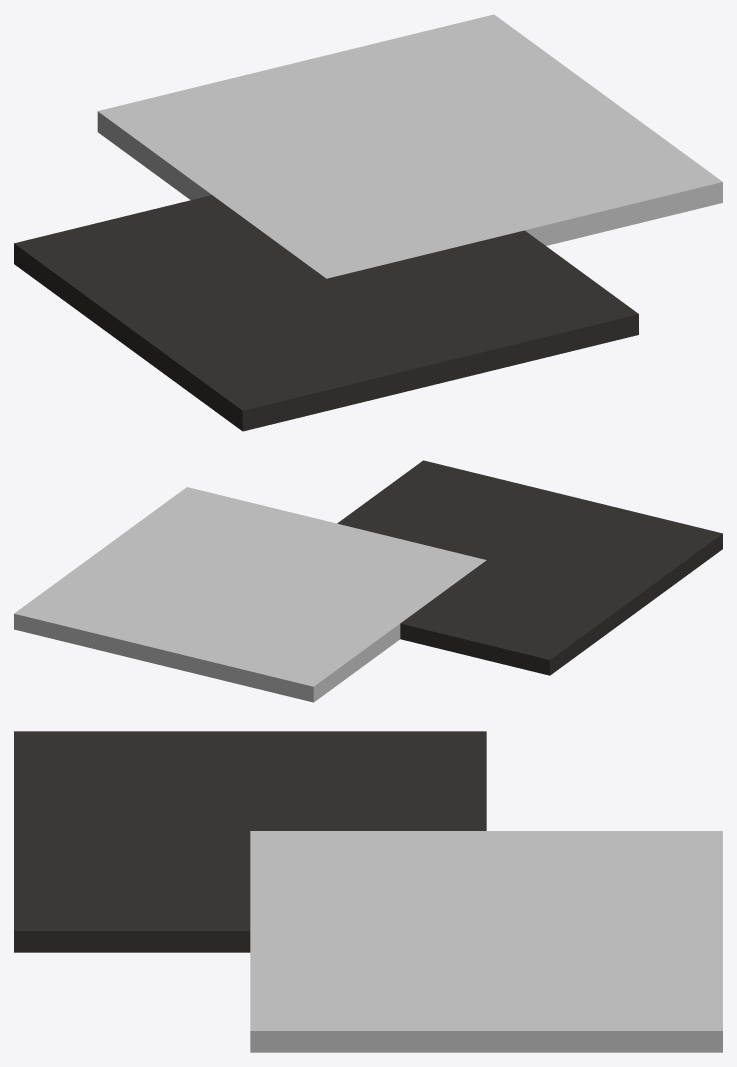
Rendered from SM_Factory_Ground_01.fbx.
3 views of the same model, one above another, from view 1: azimuth 30°, elevation 25°; view 2: azimuth 150°, elevation 25°; view 3: azimuth 270°, elevation 25° (orthographic). The views are drawn at different scales.
Visible parts, largest first — view 1: SM_Factory_Ground_01_ConvexHulls, SM_Factory_Ground_01; view 2: SM_Factory_Ground_01_ConvexHulls, SM_Factory_Ground_01; view 3: SM_Factory_Ground_01_ConvexHulls, SM_Factory_Ground_01.
Boxes of the visible parts, x1,y1,x2,y2 form: SM_Factory_Ground_01_ConvexHulls: (97, 14, 722, 278); SM_Factory_Ground_01: (14, 195, 638, 431); SM_Factory_Ground_01_ConvexHulls: (14, 487, 486, 702); SM_Factory_Ground_01: (337, 460, 722, 675); SM_Factory_Ground_01_ConvexHulls: (250, 831, 722, 1052); SM_Factory_Ground_01: (14, 731, 486, 952).
Size of the model in its own units: 750 by 750 by 25.23.
2 materials, 1 textured.
